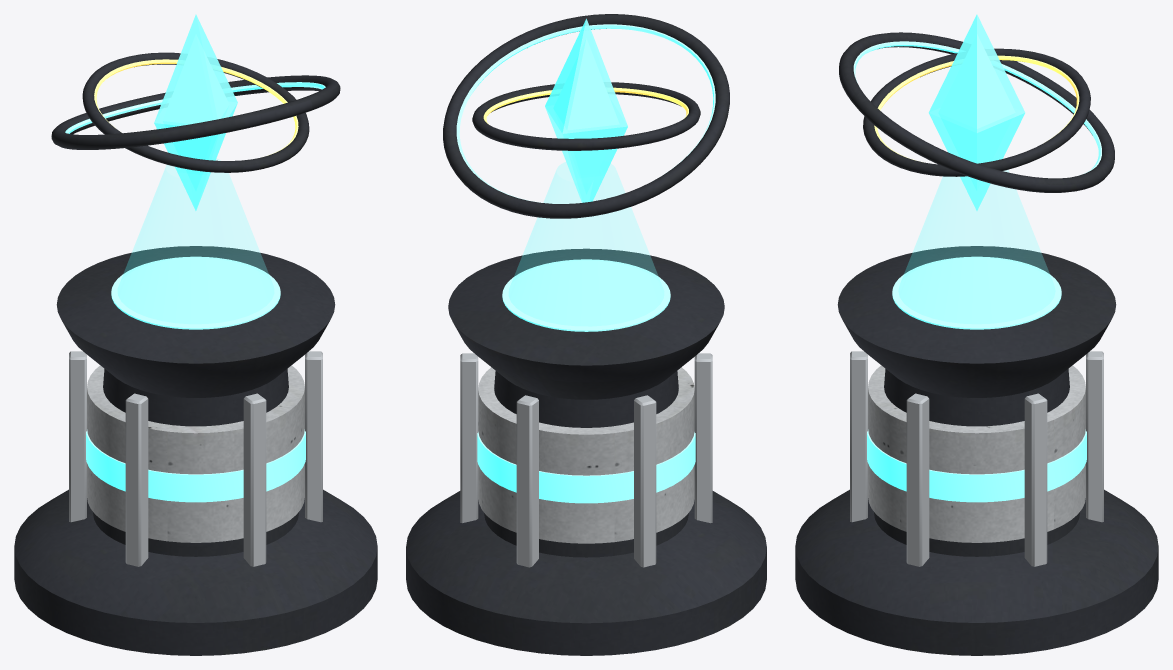
Rendered from energy-core.glb.
3 renders of one model, left to right at view 1: azimuth 30°, elevation 25°; view 2: azimuth 150°, elevation 25°; view 3: azimuth 270°, elevation 25°, orthographic.
Parts seen in each view (by area): view 1: Energy_Core, Ring_1, Crystal, Ring_2; view 2: Energy_Core, Ring_1, Crystal, Ring_2; view 3: Energy_Core, Ring_1, Crystal, Ring_2.
Boxes of the visible parts, left/top/right/bottom form: Energy_Core: left=14, top=159, right=377, bottom=655; Ring_1: left=51, top=75, right=340, bottom=149; Crystal: left=154, top=14, right=237, bottom=210; Ring_2: left=82, top=52, right=309, bottom=172; Energy_Core: left=406, top=162, right=766, bottom=655; Ring_1: left=443, top=14, right=729, bottom=218; Crystal: left=545, top=18, right=627, bottom=202; Ring_2: left=472, top=82, right=700, bottom=150; Energy_Core: left=795, top=170, right=1158, bottom=655; Ring_1: left=839, top=32, right=1114, bottom=192; Crystal: left=928, top=14, right=1025, bottom=210; Ring_2: left=863, top=48, right=1090, bottom=176.
Size of the model in its own units: 1.2 by 2.06 by 1.2.
Materials: 7 (2 with a texture image).
